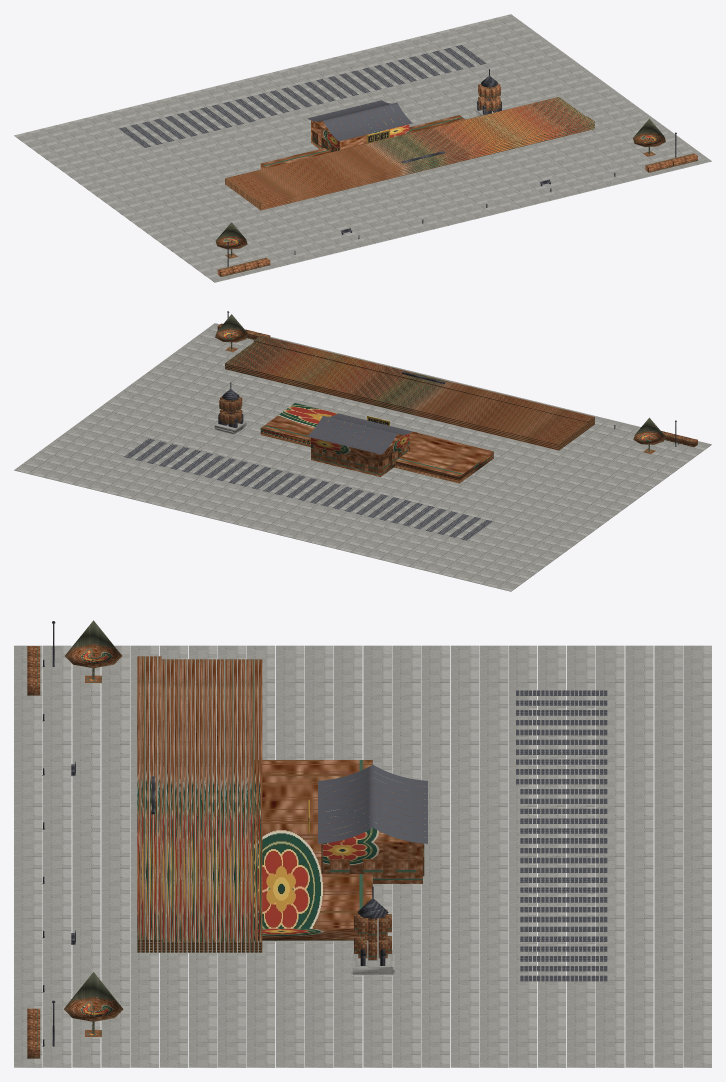
3 renders of one model, top to bottom at view 1: azimuth 30°, elevation 25°; view 2: azimuth 150°, elevation 25°; view 3: azimuth 270°, elevation 25°, orthographic. The views are drawn at different scales.
Parts seen in each view (by area): view 1: 11680_01_06382_027_01__plinth_ground_base, 11680_01_06382_027_02__mass_body_facade, 11680_01_06382_027_03__roof_deck_structure, 11680_01_06382_027_06__landscape_greenery, 11680_01_06382_027_05__window_sash_glass; view 2: 11680_01_06382_027_01__plinth_ground_base, 11680_01_06382_027_02__mass_body_facade, 11680_01_06382_027_03__roof_deck_structure, 11680_01_06382_027_06__landscape_greenery, 11680_01_06382_027_05__window_sash_glass; view 3: 11680_01_06382_027_01__plinth_ground_base, 11680_01_06382_027_02__mass_body_facade, 11680_01_06382_027_03__roof_deck_structure, 11680_01_06382_027_06__landscape_greenery, 11680_01_06382_027_05__window_sash_glass, 11680_01_06382_027_05__door_hardware_iron.
Boxes of the visible parts, x1,y1,x2,y2 form: 11680_01_06382_027_01__plinth_ground_base: [14, 14, 711, 282]; 11680_01_06382_027_02__mass_body_facade: [225, 97, 594, 210]; 11680_01_06382_027_03__roof_deck_structure: [119, 45, 486, 147]; 11680_01_06382_027_06__landscape_greenery: [215, 119, 697, 276]; 11680_01_06382_027_05__window_sash_glass: [341, 83, 500, 149]; 11680_01_06382_027_01__plinth_ground_base: [14, 323, 711, 591]; 11680_01_06382_027_02__mass_body_facade: [225, 335, 594, 483]; 11680_01_06382_027_03__roof_deck_structure: [124, 413, 492, 540]; 11680_01_06382_027_06__landscape_greenery: [215, 314, 697, 453]; 11680_01_06382_027_05__window_sash_glass: [219, 396, 242, 424]; 11680_01_06382_027_01__plinth_ground_base: [14, 645, 711, 1067]; 11680_01_06382_027_02__mass_body_facade: [137, 656, 424, 952]; 11680_01_06382_027_03__roof_deck_structure: [318, 690, 607, 981]; 11680_01_06382_027_06__landscape_greenery: [27, 620, 123, 1058]; 11680_01_06382_027_05__window_sash_glass: [321, 805, 391, 960]; 11680_01_06382_027_05__door_hardware_iron: [42, 621, 385, 1046].
Bounding box in the file's own units: 99.95 × 8.8 × 69.95.
7 materials, 7 textured.
